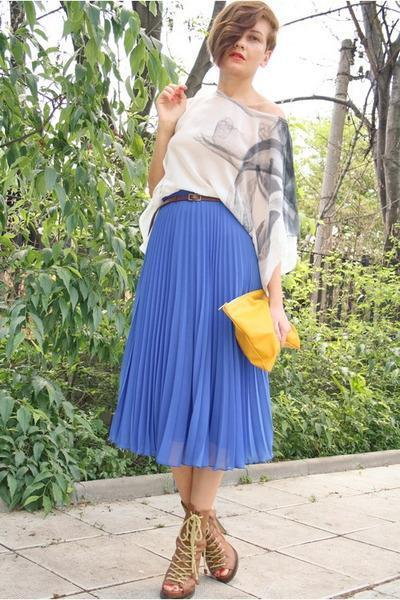bag: (228, 284, 280, 370)
shirt: (129, 92, 302, 274)
shoe: (160, 510, 238, 598)
skirt: (108, 196, 274, 467)
